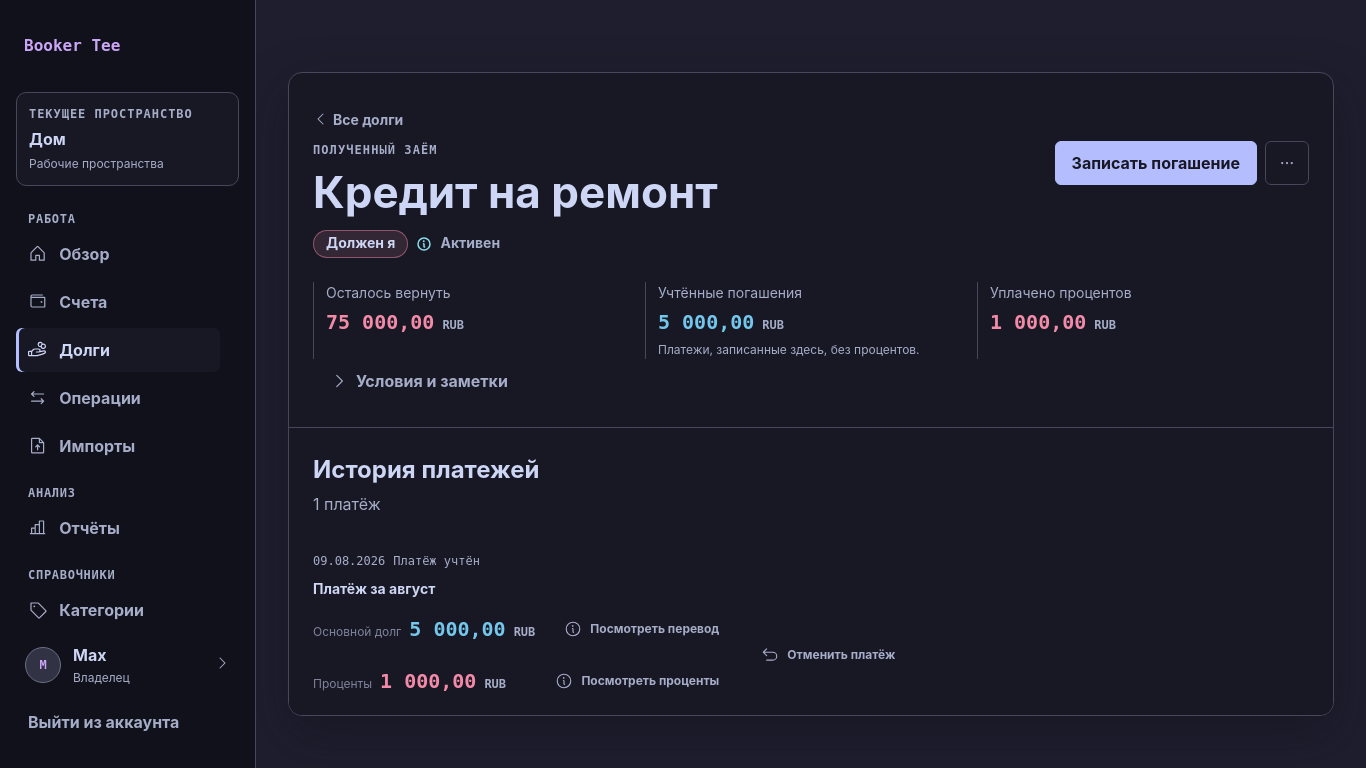
Scenario: DebtDetailPage › explains why a debt with later history cannot be deleted
The width and height of the screenshot is (1366, 768).
Click the button named "Ещё действия".
click(1287, 163)  # box [1265,141,1309,185]
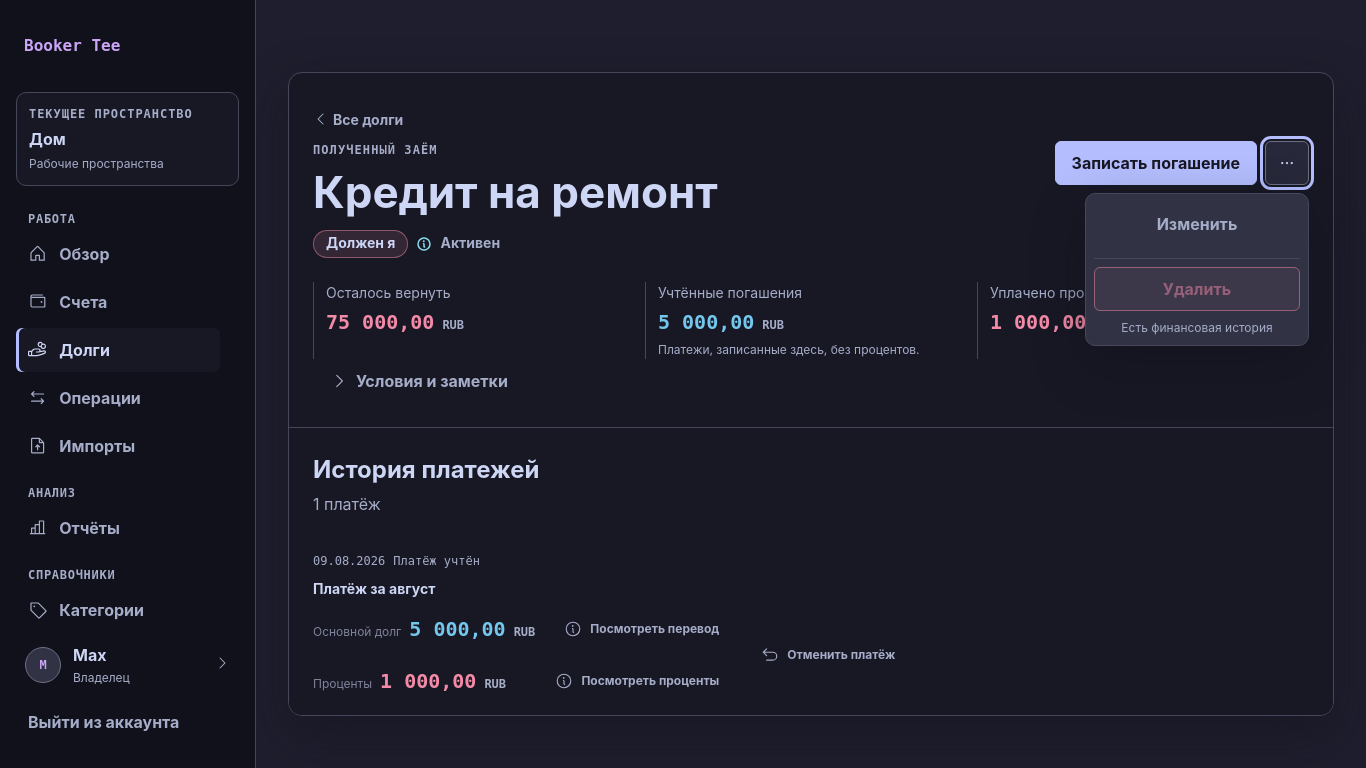
Now the button "Удалить" is disabled, box [1094,267,1300,311]
Now the text "Есть финансовая история" is shown, box [1121,320,1273,335]
